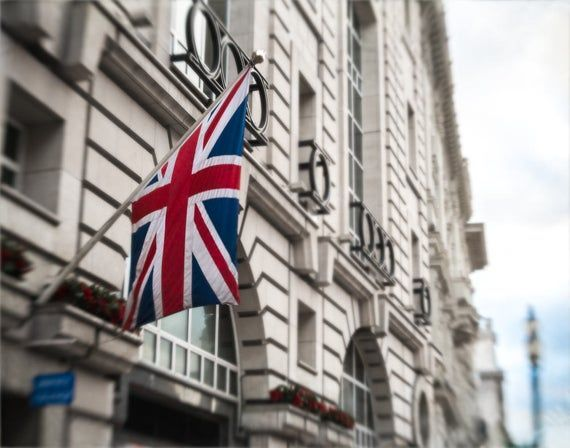Flag: (119, 61, 244, 334)
